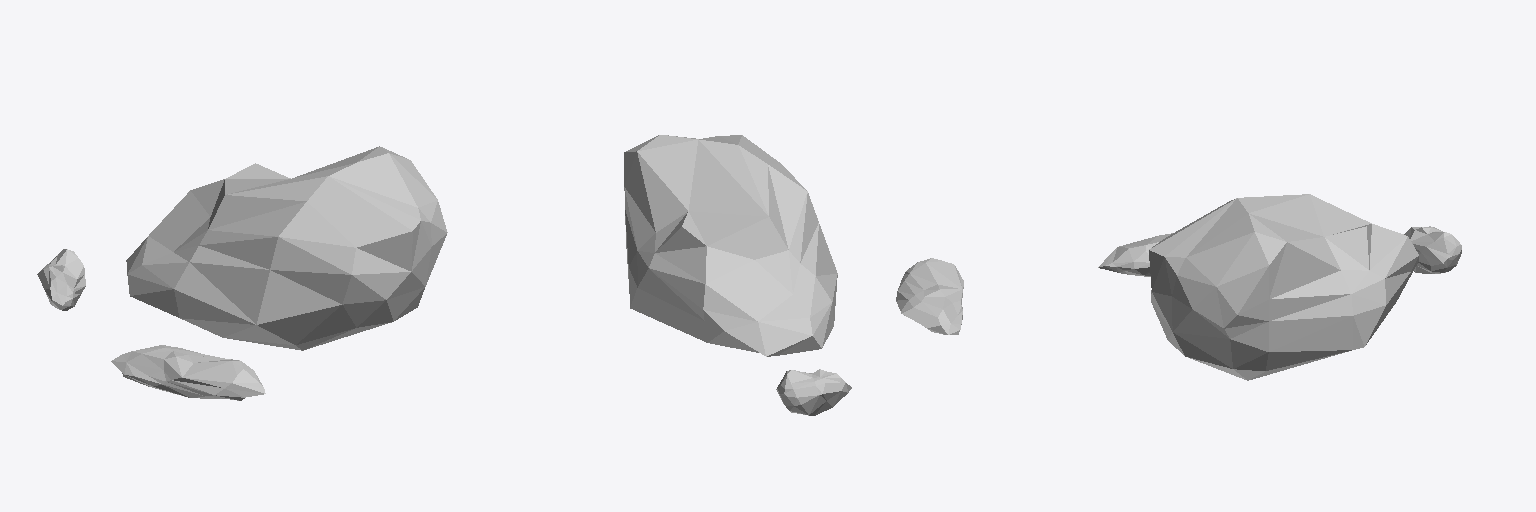
The model's file is Rocks.obj.
The picture shows the model from 3 angles: view 1: azimuth 30°, elevation 25°; view 2: azimuth 150°, elevation 25°; view 3: azimuth 270°, elevation 25°; orthographic projection.
Visible parts, largest first — view 1: Nullo_Roccia_Cubo_12, Nullo_Roccia_Cubo_22, Nullo_Roccia_Cubo1; view 2: Nullo_Roccia_Cubo_12, Nullo_Roccia_Cubo_22, Nullo_Roccia_Cubo1; view 3: Nullo_Roccia_Cubo_12, Nullo_Roccia_Cubo1, Nullo_Roccia_Cubo_22.
Part boxes in pixels (x1,y1,x2,y2): Nullo_Roccia_Cubo_12: (126,146,447,350); Nullo_Roccia_Cubo_22: (111,345,265,400); Nullo_Roccia_Cubo1: (37,249,85,310); Nullo_Roccia_Cubo_12: (624,135,837,356); Nullo_Roccia_Cubo_22: (896,258,963,334); Nullo_Roccia_Cubo1: (776,369,851,415); Nullo_Roccia_Cubo_12: (1149,194,1418,380); Nullo_Roccia_Cubo1: (1404,226,1461,273); Nullo_Roccia_Cubo_22: (1098,233,1172,276).
Size of the model in its own units: 285 by 141 by 278.